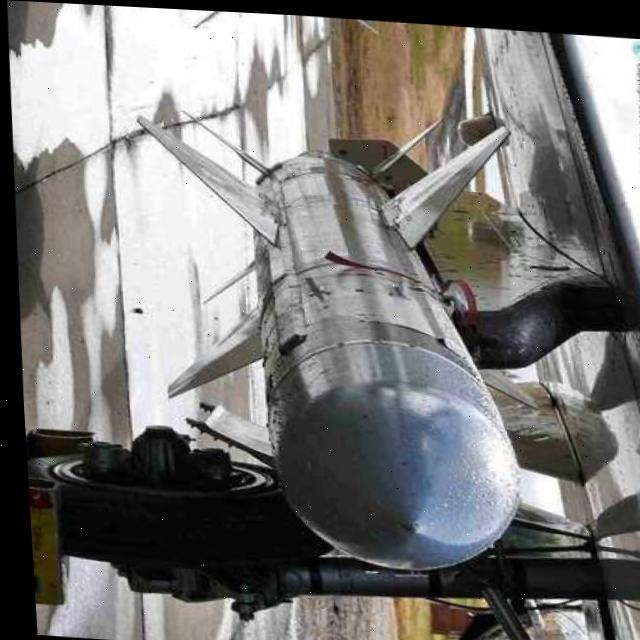missile: (121, 98, 539, 575)
